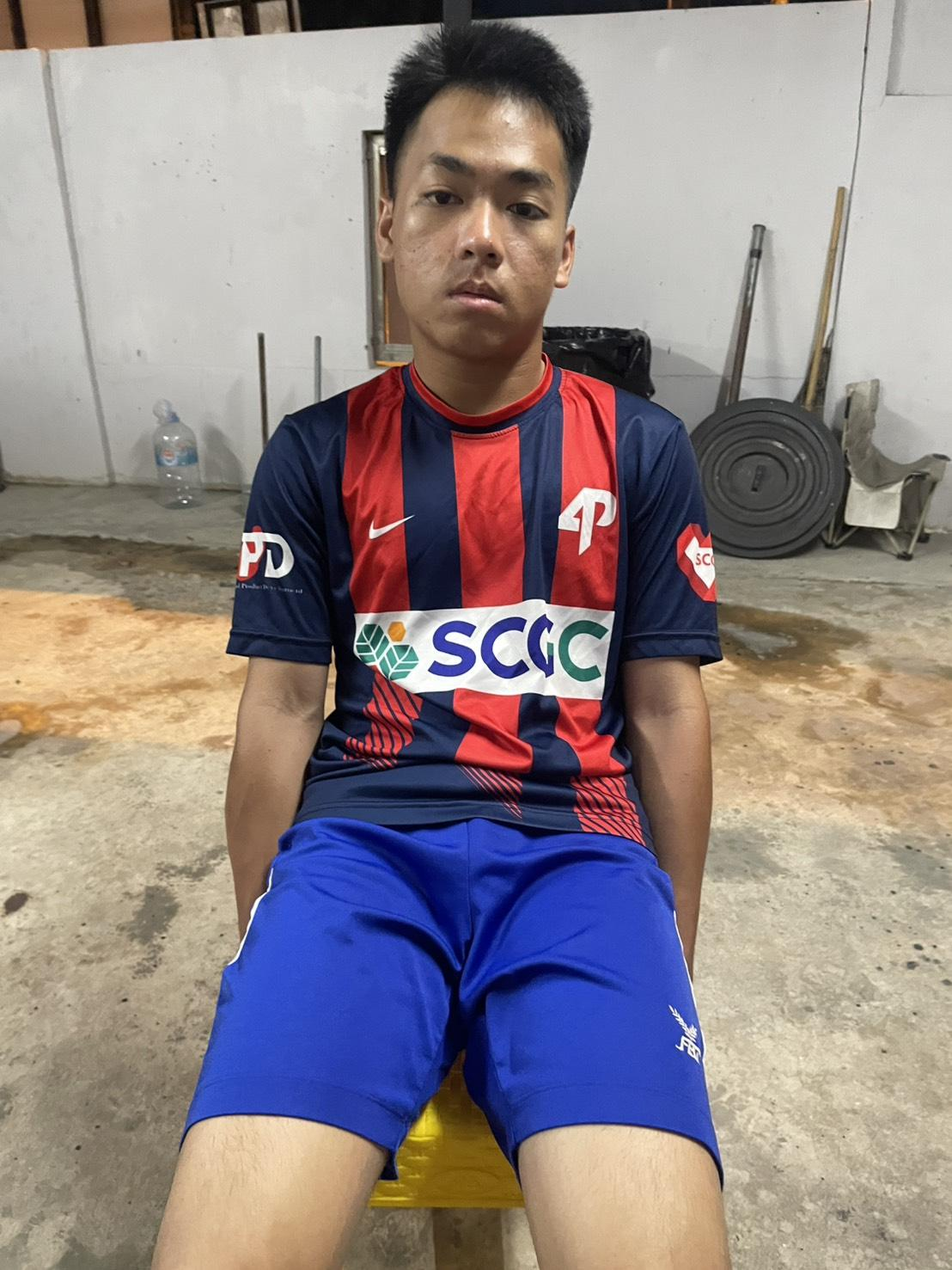BadPosture: (229, 25, 720, 849)
